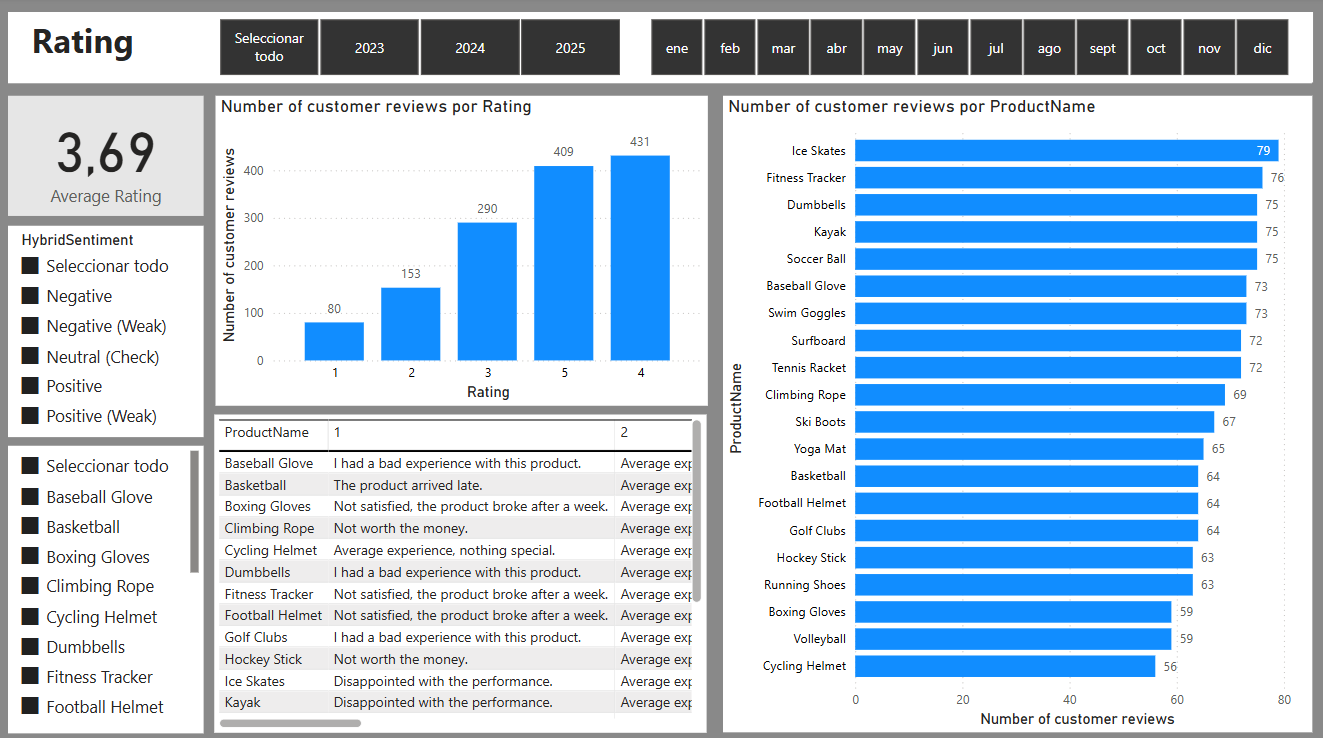

The page's visual inventory and layout, read from the dashboard file:
{"tool":"powerbi","page":{"name":"Customer Rating Details","canvas":[1280,720],"ordinal":3},"visuals":[{"type":"textbox","box":[10.1,14.4,1258.7,69],"z":0},{"type":"slicer","fields":{"Values":["Fact_customer_reviews_with_Sentiment.HybridSentiment"]},"box":[9.7,220.6,189.1,203.7],"z":1000},{"type":"card","fields":{"Values":["_Calculations.Average Rating"]},"box":[9.7,95.8,189.1,116.4],"z":2000},{"type":"slicer","fields":{"Values":["Calendar.MonthNameShort"]},"box":[604.2,14.4,664.6,67.6],"z":3000},{"type":"slicer","fields":{"Values":["Calendar.Year"]},"box":[188.4,14.4,435.9,67.6],"z":4000},{"type":"clusteredColumnChart","fields":{"Y":["_Calculations.Number of customer reviews"],"Category":["Fact_customer_reviews_with_Sentiment.Rating"]},"box":[209.7,95.8,475.2,299.5],"z":5000},{"type":"pivotTable","fields":{"Values":["Min(Fact_customer_reviews_with_Sentiment.ReviewText)"],"Columns":["Fact_customer_reviews_with_Sentiment.Rating"],"Rows":["dim_products.ProductName"]},"box":[208.9,403.2,475.1,307.4],"z":6000},{"type":"slicer","fields":{"Values":["dim_products.ProductName"]},"box":[9.7,432.8,189.1,277.6],"z":7000},{"type":"clusteredBarChart","fields":{"Category":["dim_products.ProductName"],"Y":["_Calculations.Number of customer reviews"]},"box":[699.5,95.8,568.6,614.7],"z":8000}]}

Visuals, with their boxes in screenshot pixels (x1, y1, x2, y2), scaled from the page's 1280x720 canvas onto the 1323x738 screenshot:
textbox: region(10, 15, 1311, 85)
slicer - Fact_customer_reviews_with_Sentiment.HybridSentiment: region(10, 226, 205, 435)
card - _Calculations.Average Rating: region(10, 98, 205, 218)
slicer - Calendar.MonthNameShort: region(624, 15, 1311, 84)
slicer - Calendar.Year: region(195, 15, 645, 84)
clusteredColumnChart - _Calculations.Number of customer reviews x Fact_customer_reviews_with_Sentiment.Rating: region(217, 98, 708, 405)
pivotTable - Min(Fact_customer_reviews_with_Sentiment.ReviewText) x Fact_customer_reviews_with_Sentiment.Rating: region(216, 413, 707, 728)
slicer - dim_products.ProductName: region(10, 444, 205, 728)
clusteredBarChart - dim_products.ProductName x _Calculations.Number of customer reviews: region(723, 98, 1311, 728)
